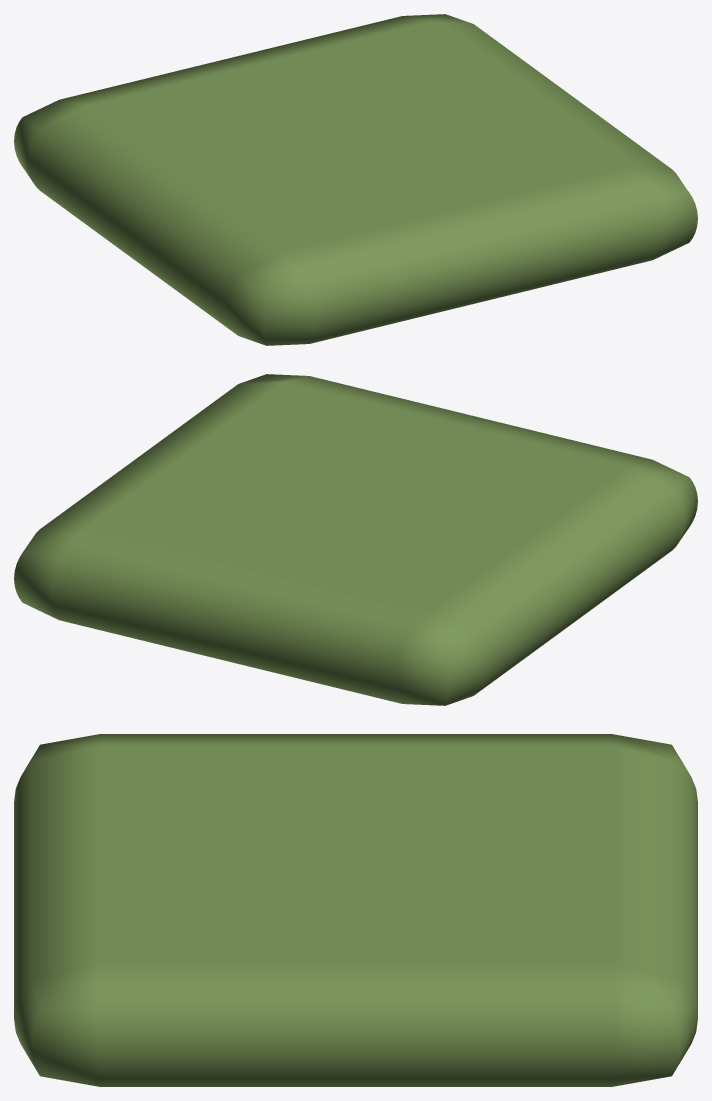
The model's file is grass.glb.
The picture shows the model from 3 angles, top to bottom: view 1: azimuth 30°, elevation 25°; view 2: azimuth 150°, elevation 25°; view 3: azimuth 270°, elevation 25°; orthographic projection. The views are drawn at different scales.
Parts seen in each view (by area): view 1: grass; view 2: grass; view 3: grass.
Boxes of the visible parts, box(x1,y1,x2,y2) form: grass: box(14, 14, 697, 345); grass: box(14, 374, 697, 705); grass: box(14, 734, 697, 1086).
Bounding box in the file's own units: 1 × 0.18 × 1.
